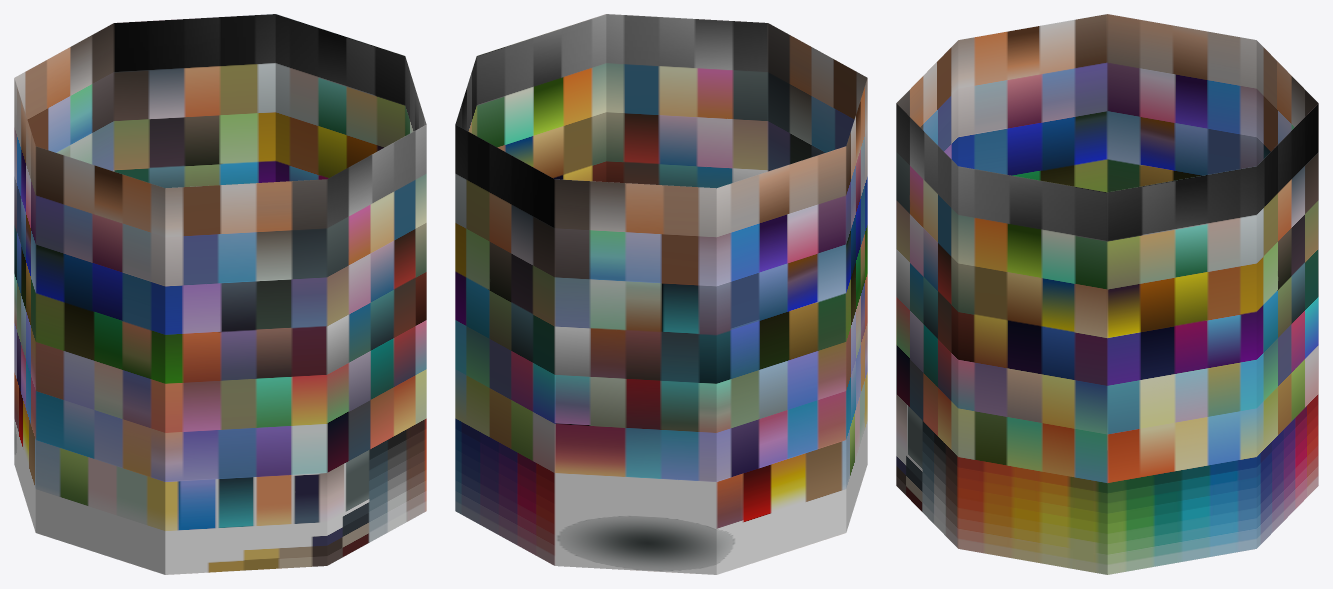
File: assets_godray.fbx
3 renders of one model, left to right at view 1: azimuth 30°, elevation 25°; view 2: azimuth 150°, elevation 25°; view 3: azimuth 270°, elevation 25°, orthographic.
Visible parts, largest first — view 1: godray; view 2: godray; view 3: godray.
Boxes of the visible parts, bbox=[...] form: godray: bbox=[14, 14, 426, 574]; godray: bbox=[455, 14, 867, 574]; godray: bbox=[896, 14, 1318, 574].
Bounding box in the file's own units: 59.3 × 59.3 × 59.3.
